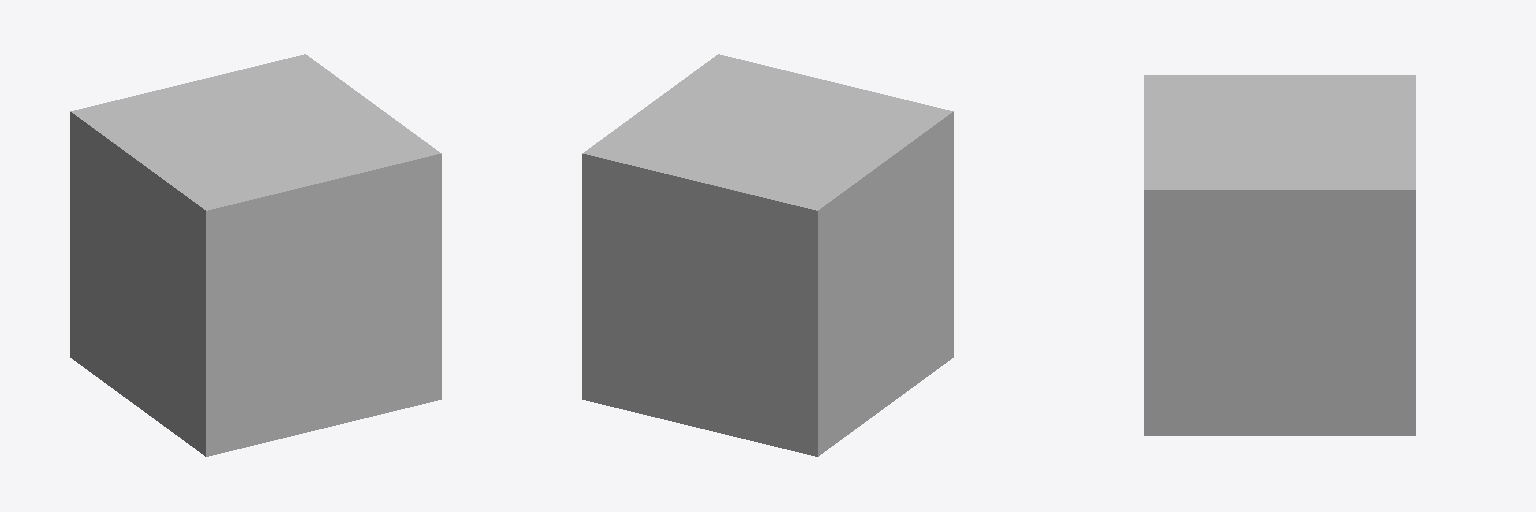
Rendered from cornell.obj.
3 views of the same model, side by side, from view 1: azimuth 30°, elevation 25°; view 2: azimuth 150°, elevation 25°; view 3: azimuth 270°, elevation 25° (orthographic).
Parts seen in each view (by area): view 1: Cube; view 2: Cube; view 3: Cube.
Boxes of the visible parts, <box> form: Cube: <box>70,54,441,456</box>; Cube: <box>582,54,953,456</box>; Cube: <box>1144,75,1415,435</box>.
Size of the model in its own units: 30 by 30.1 by 30.